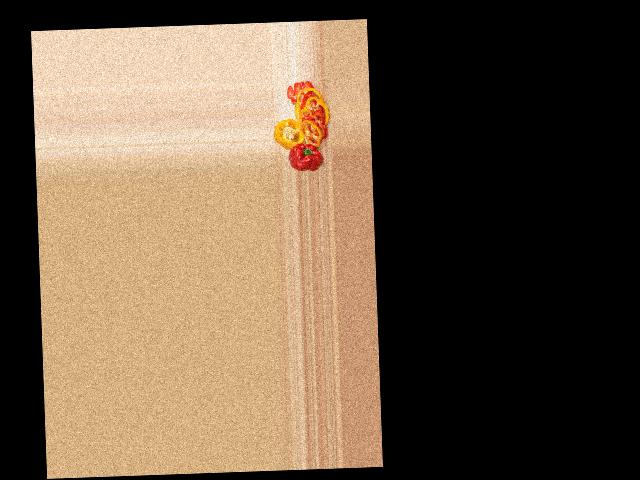bell_pepper: (272, 116, 304, 148)
